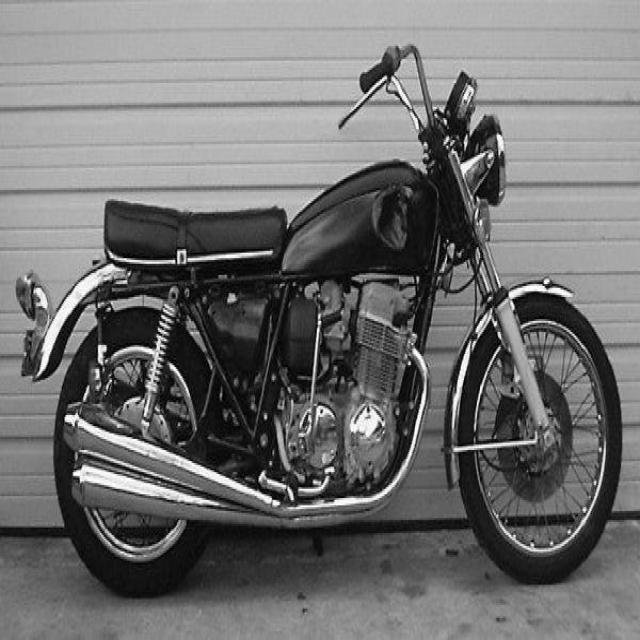Motorcycle: (16, 44, 622, 595)
